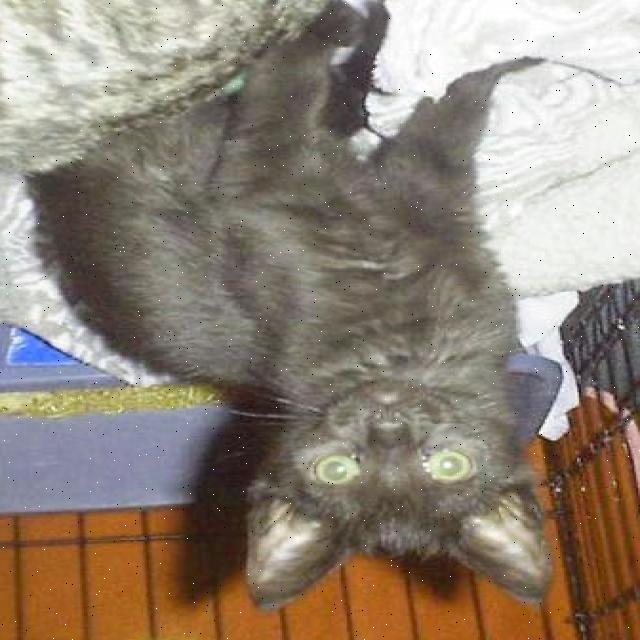Cat: (221, 346, 572, 601)
